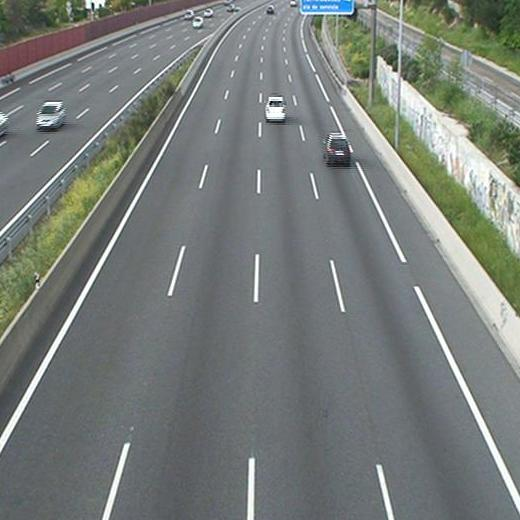car: (324, 135, 350, 161), (265, 98, 286, 119), (266, 6, 274, 13)
